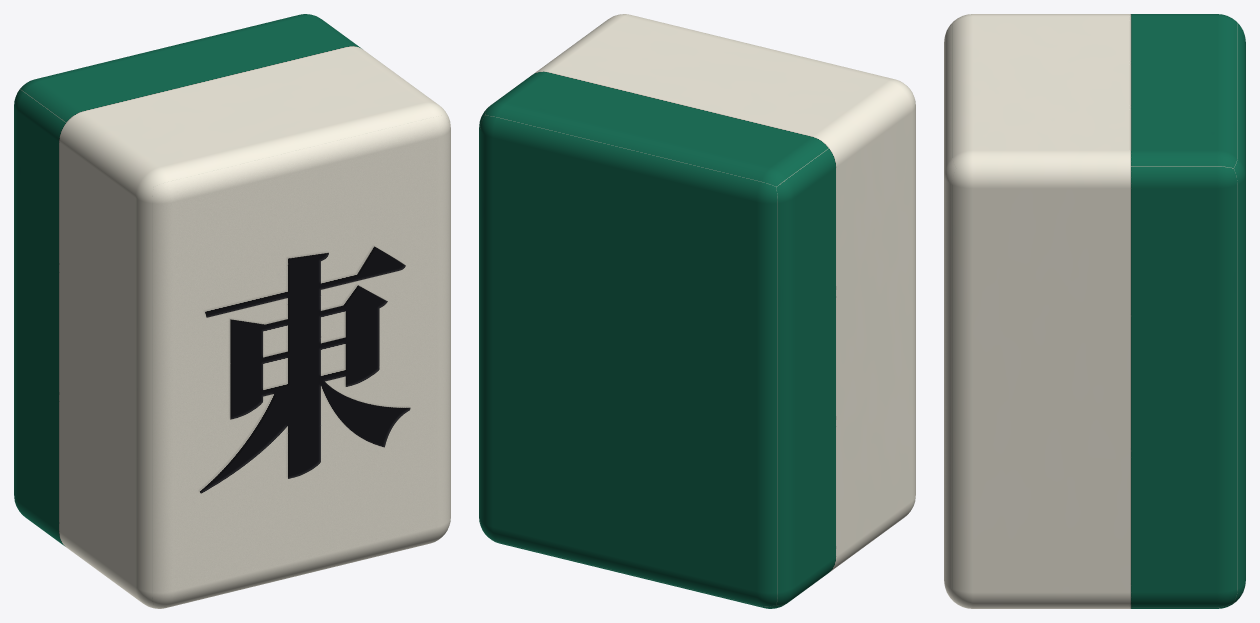
Rendered from tile_1z.obj.
3 views of the same model, side by side, from view 1: azimuth 30°, elevation 25°; view 2: azimuth 150°, elevation 25°; view 3: azimuth 270°, elevation 25° (orthographic). The views are drawn at different scales.
Visible parts, largest first — view 1: tile_1z; view 2: tile_1z; view 3: tile_1z.
Part boxes in pixels (left/top/right/bottom): tile_1z: left=14, top=14, right=450, bottom=608; tile_1z: left=479, top=14, right=915, bottom=608; tile_1z: left=944, top=14, right=1245, bottom=608.
Bounding box in the file's own units: 0.026 × 0.035 × 0.021.
Materials: 1 (1 with a texture image).
